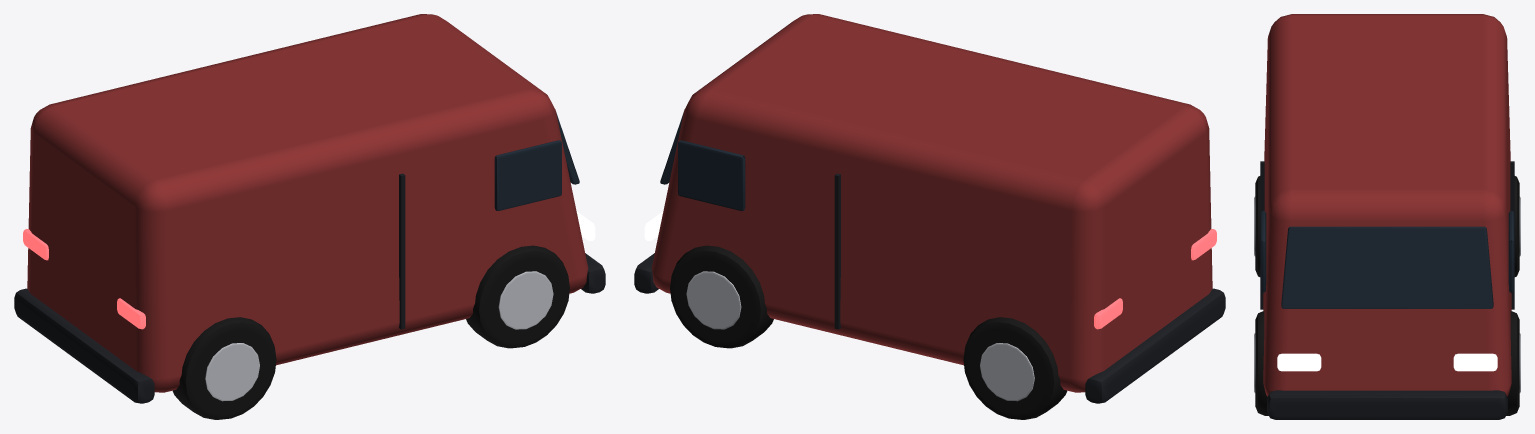
File: van.glb
3 renders of one model, left to right at view 1: azimuth 30°, elevation 25°; view 2: azimuth 150°, elevation 25°; view 3: azimuth 270°, elevation 25°, orthographic. The views are drawn at different scales.
Parts seen in each view (by area): view 1: body, wheel-+11--1-tyre, wheel--11--1-tyre, bumper-rear, cab-window--1, wheel-+11--1-hub, wheel--11--1-hub, side-door-line--1, bumper-front; view 2: body, wheel-+11-1-tyre, wheel--11-1-tyre, bumper-rear, cab-window-1, wheel-+11-1-hub, wheel--11-1-hub, side-door-line-1, bumper-front; view 3: body, windscreen, bumper-front, wheel-+11-1-tyre, wheel-+11--1-tyre, headlight-1, headlight--1, wheel--11-1-tyre, wheel--11--1-tyre, cab-window-1, cab-window--1, side-door-line-1 (+1 smaller).
Part boxes in pixels (x1=…): body: x1=27, y1=14, x2=588, y2=392; wheel-+11--1-tyre: x1=466, y1=245, x2=569, y2=348; wheel--11--1-tyre: x1=172, y1=317, x2=276, y2=419; bumper-rear: x1=14, y1=288, x2=154, y2=403; cab-window--1: x1=494, y1=140, x2=561, y2=210; wheel-+11--1-hub: x1=498, y1=271, x2=553, y2=329; wheel--11--1-hub: x1=205, y1=343, x2=259, y2=401; side-door-line--1: x1=399, y1=173, x2=405, y2=329; bumper-front: x1=581, y1=253, x2=605, y2=293; body: x1=651, y1=14, x2=1212, y2=392; wheel-+11-1-tyre: x1=670, y1=245, x2=773, y2=348; wheel--11-1-tyre: x1=963, y1=317, x2=1067, y2=419; bumper-rear: x1=1085, y1=288, x2=1225, y2=403; cab-window-1: x1=678, y1=140, x2=745, y2=210; wheel-+11-1-hub: x1=686, y1=271, x2=741, y2=329; wheel--11-1-hub: x1=980, y1=343, x2=1034, y2=401; side-door-line-1: x1=834, y1=173, x2=840, y2=329; bumper-front: x1=634, y1=253, x2=658, y2=293; body: x1=1263, y1=14, x2=1511, y2=396; windscreen: x1=1281, y1=226, x2=1493, y2=308; bumper-front: x1=1267, y1=390, x2=1507, y2=419; wheel-+11-1-tyre: x1=1506, y1=311, x2=1519, y2=415; wheel-+11--1-tyre: x1=1255, y1=311, x2=1268, y2=415; headlight-1: x1=1453, y1=353, x2=1497, y2=371; headlight--1: x1=1277, y1=353, x2=1321, y2=371; wheel--11-1-tyre: x1=1514, y1=176, x2=1519, y2=276; wheel--11--1-tyre: x1=1255, y1=176, x2=1260, y2=276; cab-window-1: x1=1508, y1=210, x2=1514, y2=292; cab-window--1: x1=1260, y1=210, x2=1266, y2=292; side-door-line-1: x1=1510, y1=161, x2=1514, y2=309.
Size of the model in its own units: 35.4 by 17.4 by 18.17.
